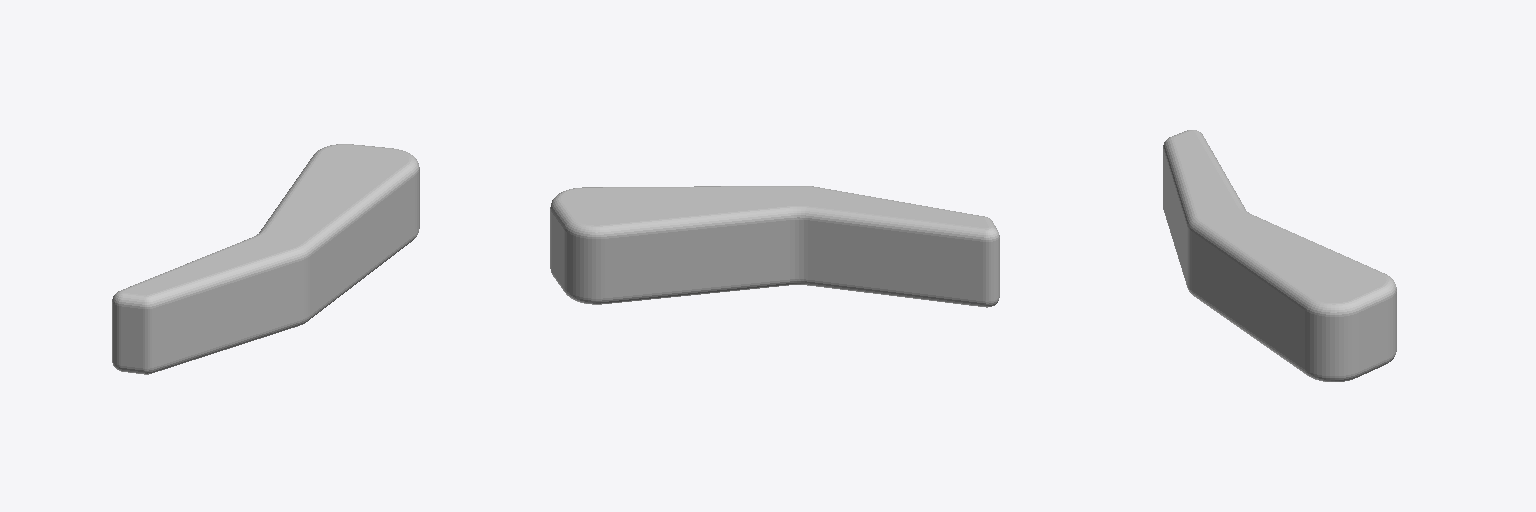
File: Arm1.obj
3 renders of one model, left to right at view 1: azimuth 30°, elevation 25°; view 2: azimuth 150°, elevation 25°; view 3: azimuth 270°, elevation 25°, orthographic.
Parts seen in each view (by area): view 1: Body135; view 2: Body135; view 3: Body135.
Part boxes in pixels (x1,y1,x2,y2): Body135: (112, 144, 419, 374); Body135: (550, 186, 999, 307); Body135: (1163, 130, 1396, 381).
Size of the model in its own units: 125 by 25 by 67.79.